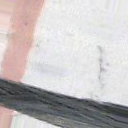crackTip: (1, 75, 128, 127)
